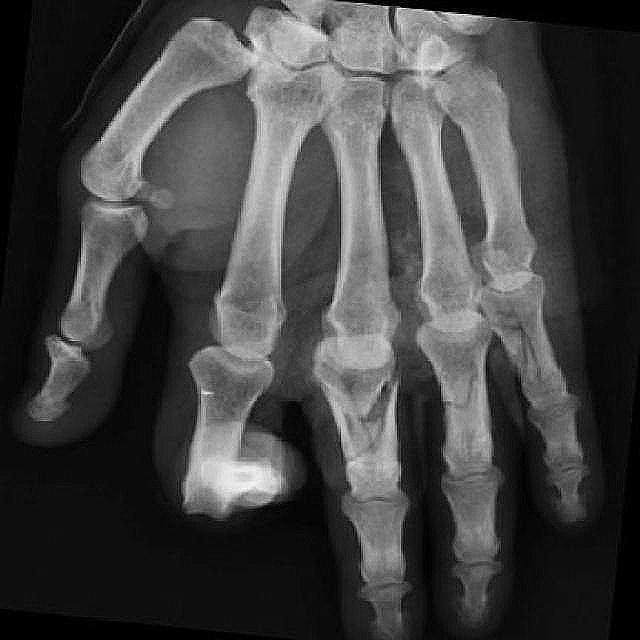bone: (298, 354, 404, 469), (487, 294, 563, 388), (428, 348, 492, 432)
